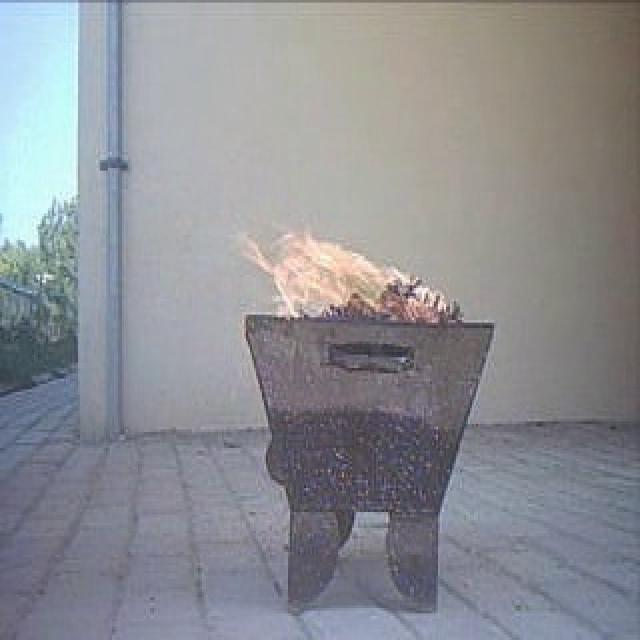fire: (257, 222, 397, 313)
